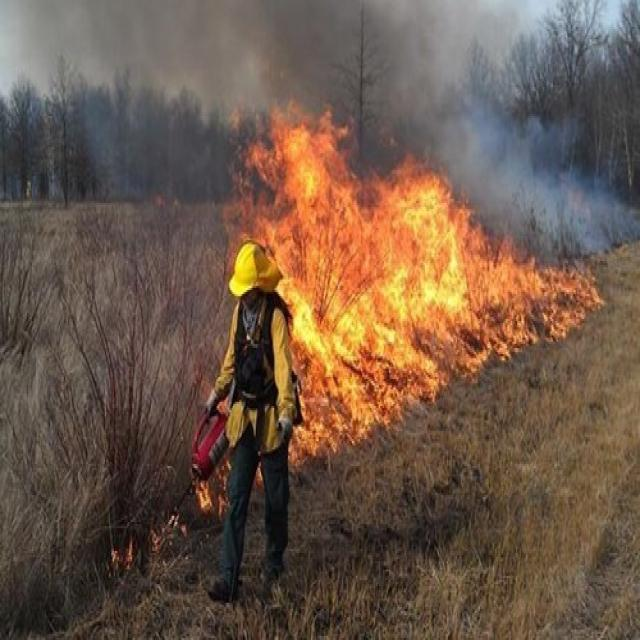Fire: (185, 81, 608, 516)
Smoke: (0, 0, 640, 272)
